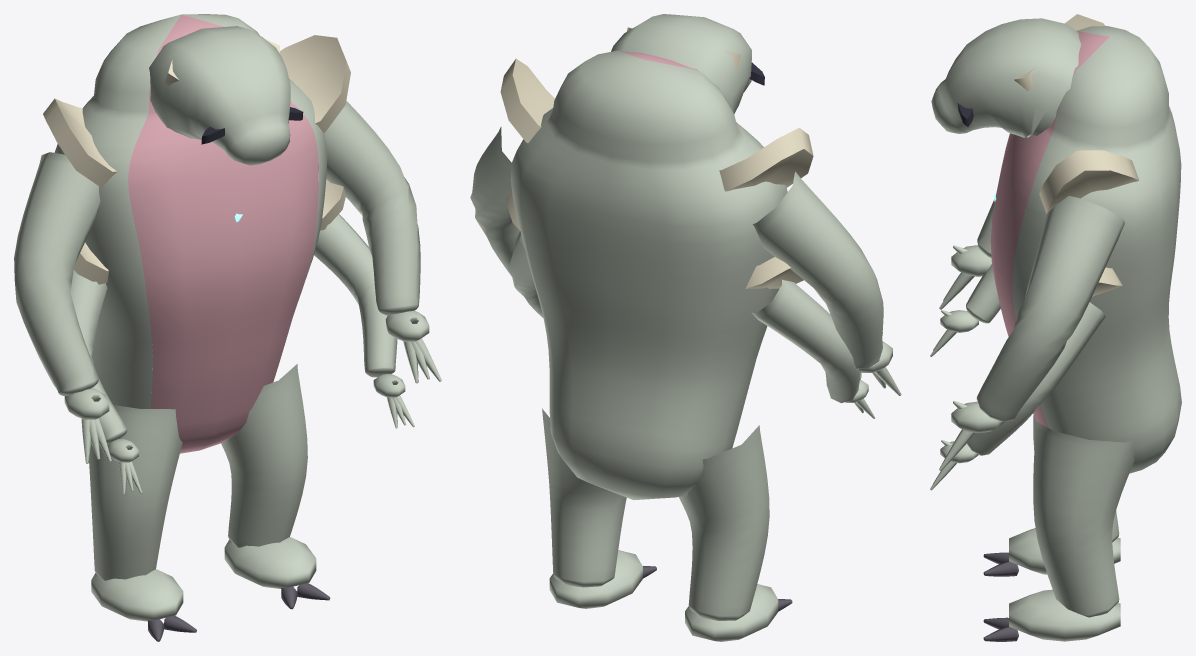
The model's file is xeno-species-and-alien-creatures-four-armed-labourer-x-2b559b99__21110.glb.
The picture shows the model from 3 angles, left to right: view 1: azimuth 30°, elevation 25°; view 2: azimuth 150°, elevation 25°; view 3: azimuth 270°, elevation 25°; orthographic projection.
Visible parts, largest first — view 1: four-armed-labourer-xeno; view 2: four-armed-labourer-xeno; view 3: four-armed-labourer-xeno.
Boxes of the visible parts, x1,y1,x2,y2 form: four-armed-labourer-xeno: (14, 14, 441, 641); four-armed-labourer-xeno: (470, 14, 901, 641); four-armed-labourer-xeno: (930, 14, 1181, 641).
Bounding box in the file's own units: 1.48 × 2.05 × 0.8164.
